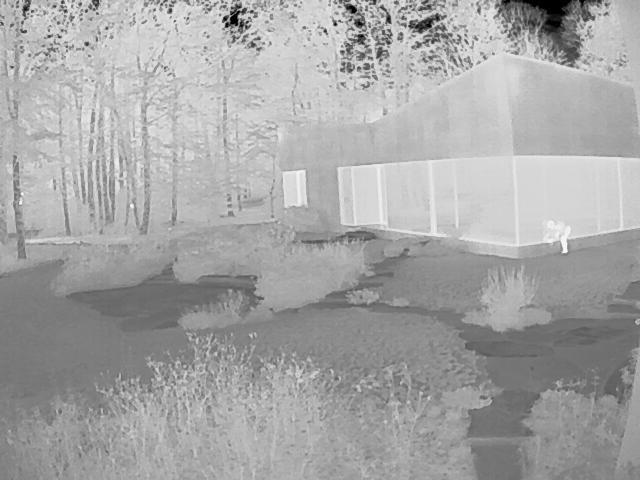person: (546, 217, 575, 257)
